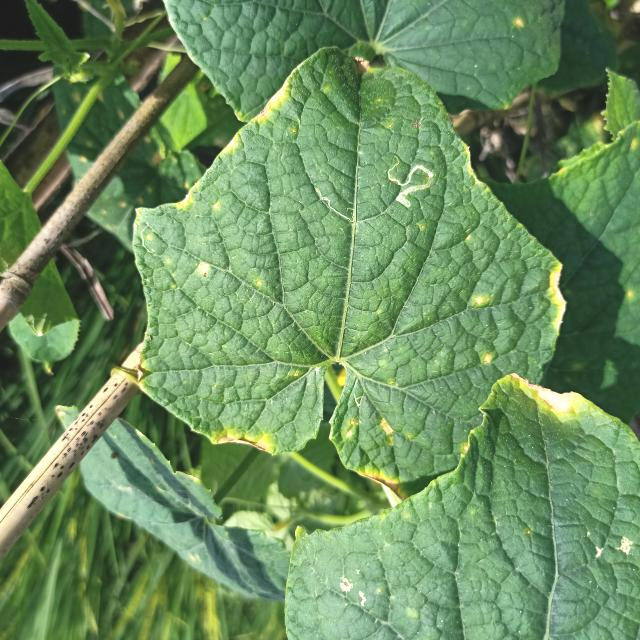disease_cucumber: (342, 409, 401, 445), (171, 192, 198, 213), (193, 260, 211, 278), (471, 293, 491, 309), (481, 350, 496, 366)
